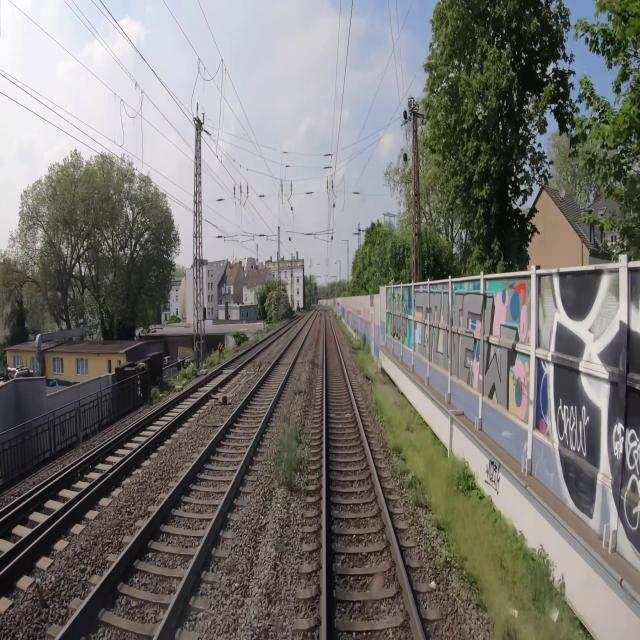Plant: (350, 333, 580, 639), (273, 415, 303, 492)
